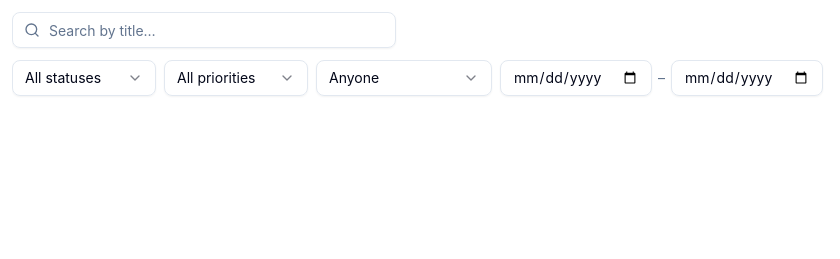
it: TaskFiltersBar › lists each project member as an assignee option
The image size is (840, 259).
Click the dropdown named "filter by assignee": (404, 78) [316,60,492,96]
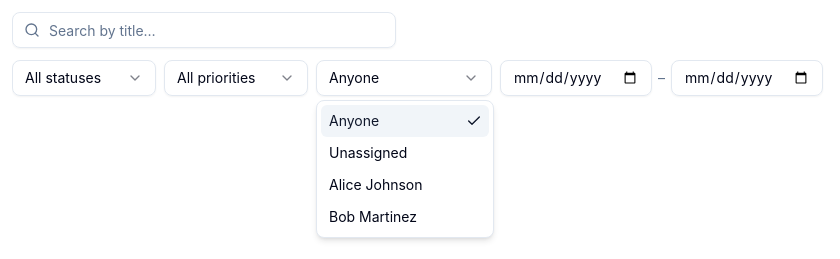
Now the option "Alice Johnson" is shown, box [329,176,422,193]
Now the option "Bob Martinez" is shown, box [329,208,417,225]
Now the option "Unassigned" is shown, box [329,144,407,161]
